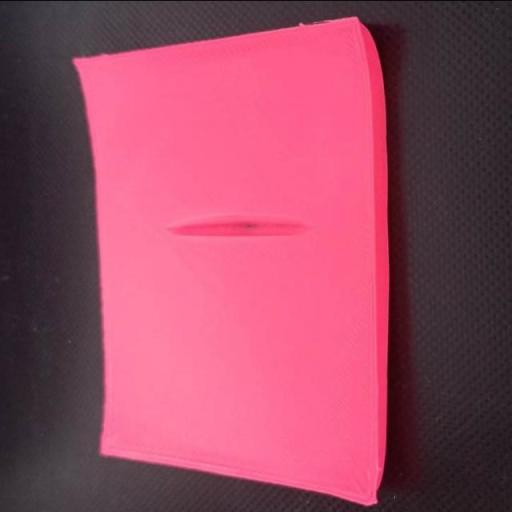cracks: (162, 209, 318, 245)
